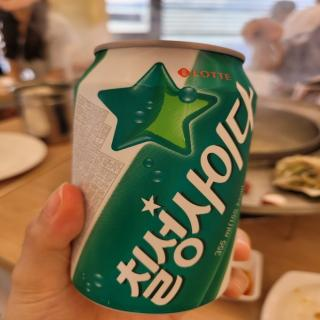cocacola: (66, 36, 258, 316)
